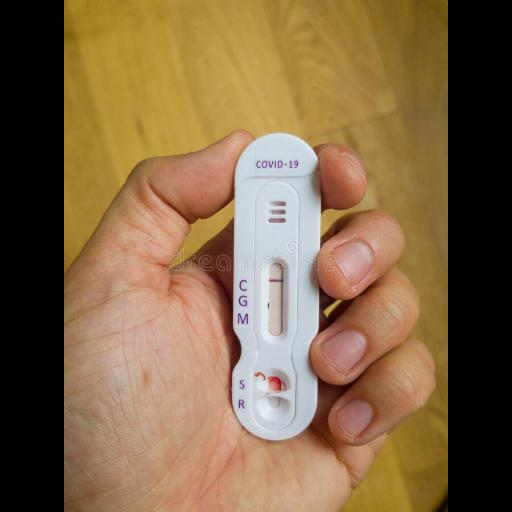Neg: (234, 136, 318, 440)
